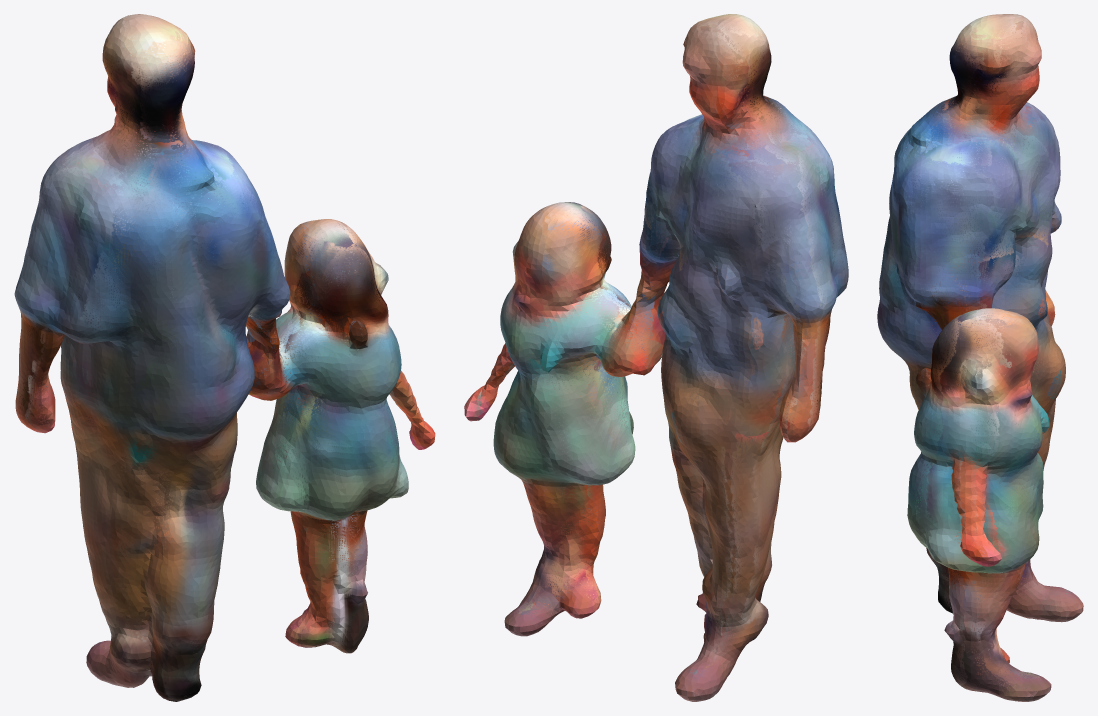
The model's file is AAA_mesh.glb.
The picture shows the model from 3 angles, left to right: view 1: azimuth 30°, elevation 25°; view 2: azimuth 150°, elevation 25°; view 3: azimuth 270°, elevation 25°; orthographic projection. The views are drawn at different scales.
Bounding box in the file's own units: 0.9933 × 1.64 × 0.5071.
Materials: 1 (1 with a texture image).
